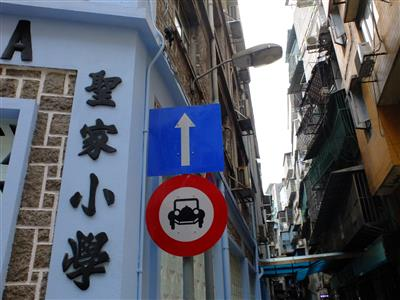noMotorVehicles: (141, 171, 228, 257)
oneway: (145, 97, 228, 178)
